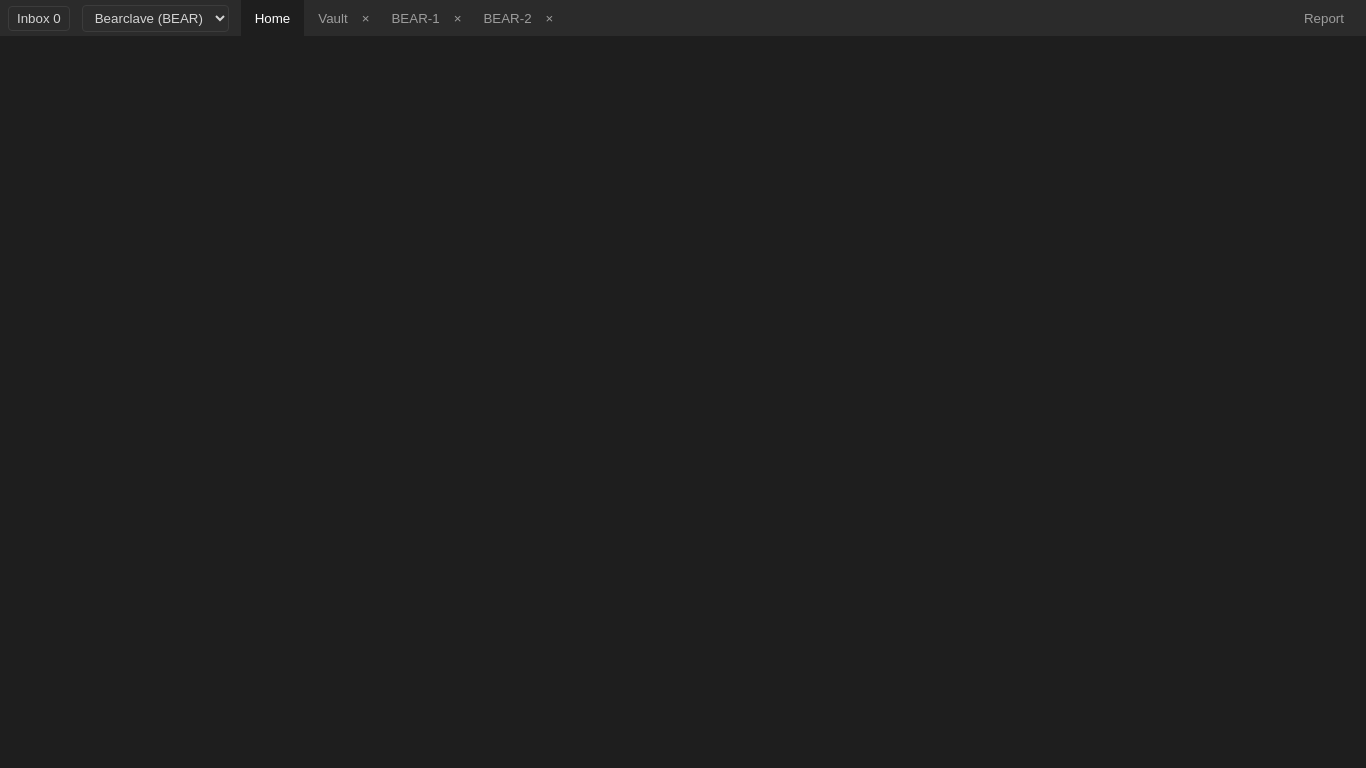
Test: TabBar › confirming close of a working vault tab names it Vault
Click the button named "Close Vault".
click(370, 18)  # box [362, 0, 378, 36]
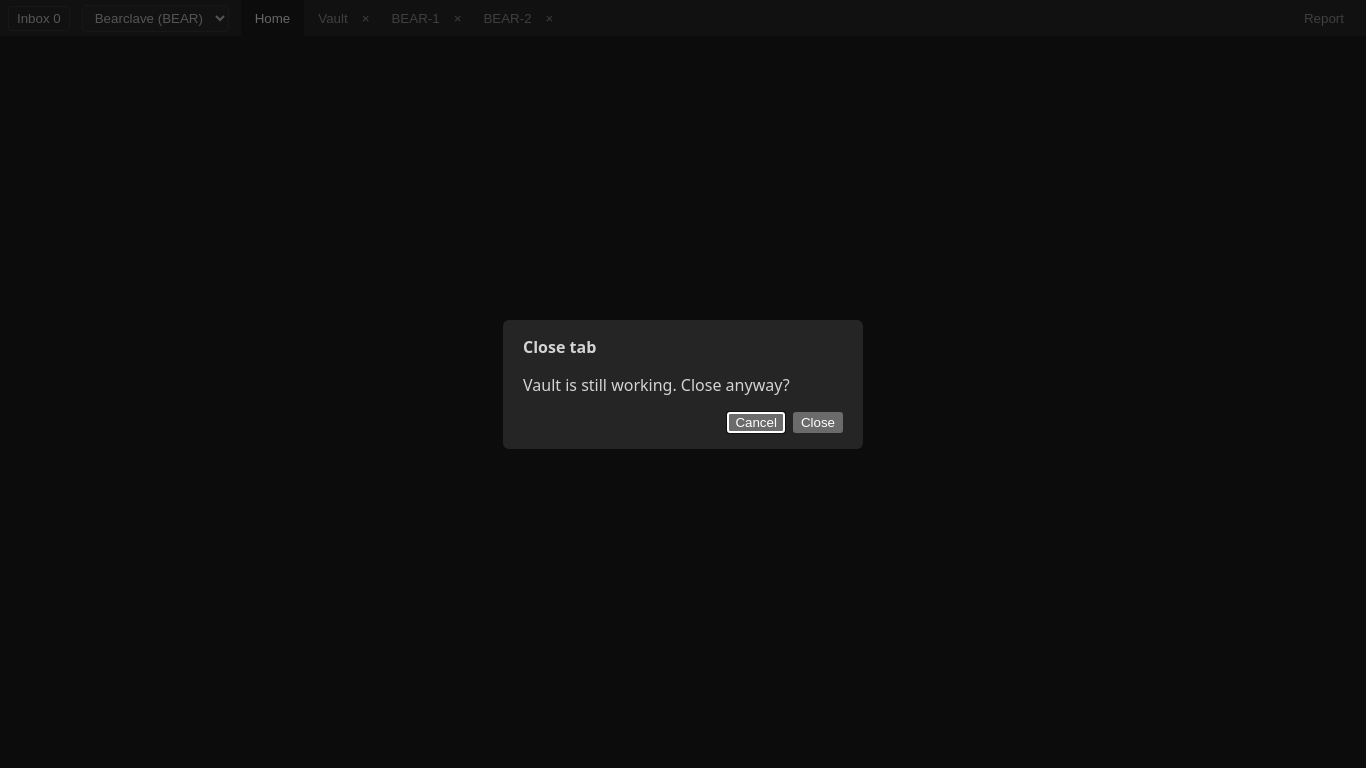
Expected: the dialog shows "Vault is still working. Close anyway?", [523, 374, 790, 396]
